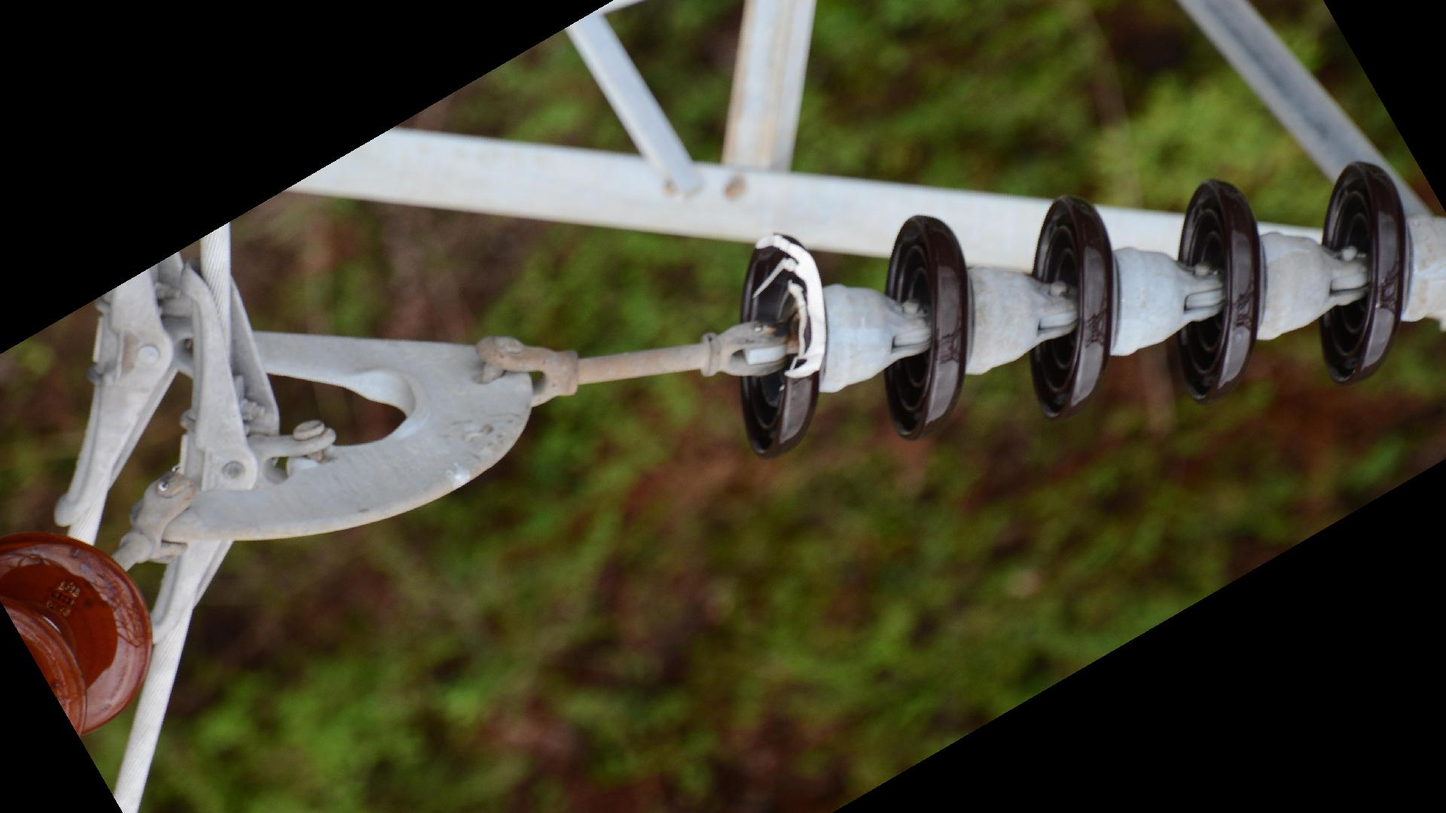insulator: (731, 156, 1415, 466), (1, 524, 160, 739)
insulator_breakage: (750, 227, 834, 388)
